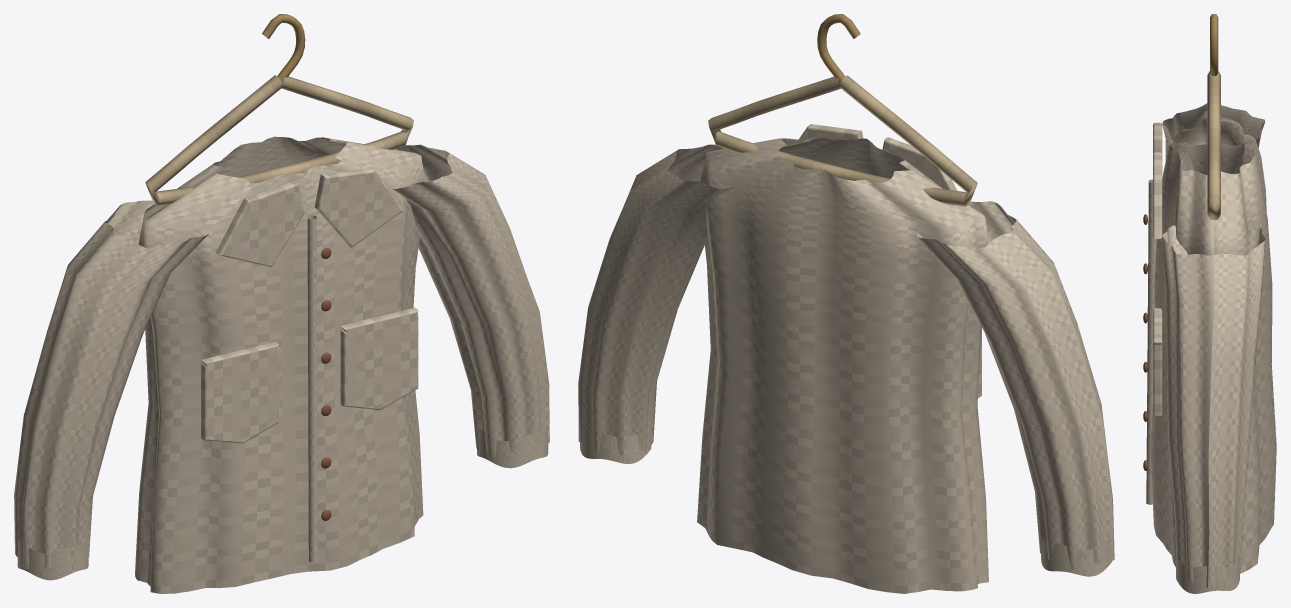
The picture shows the model from 3 angles, left to right: view 1: azimuth 30°, elevation 25°; view 2: azimuth 150°, elevation 25°; view 3: azimuth 270°, elevation 25°; orthographic projection. The views are drawn at different scales.
Parts seen in each view (by area): view 1: fabric_linen, ash_grain, aged_brass; view 2: fabric_linen, ash_grain, aged_brass; view 3: fabric_linen, ash_grain, aged_brass, leather_tobacco.
Part boxes in pixels (x1,y1,x2,y2): fabric_linen: [14, 136, 549, 593]; ash_grain: [145, 75, 413, 205]; aged_brass: [262, 14, 305, 82]; fabric_linen: [578, 124, 1114, 593]; ash_grain: [708, 75, 977, 206]; aged_brass: [817, 14, 860, 82]; fabric_linen: [1146, 103, 1276, 593]; ash_grain: [1207, 71, 1220, 219]; aged_brass: [1210, 14, 1218, 75]; leather_tobacco: [1143, 214, 1147, 470].
Size of the model in its own units: 0.9248 by 0.9041 by 0.2165.
4 materials, 2 textured.
